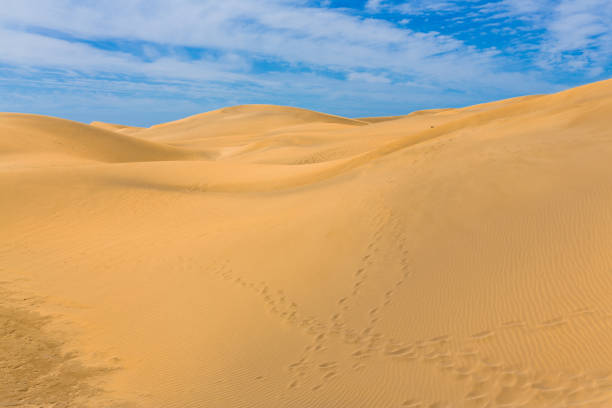human_foot_print: (278, 218, 416, 400), (394, 347, 605, 407), (204, 264, 328, 330)
